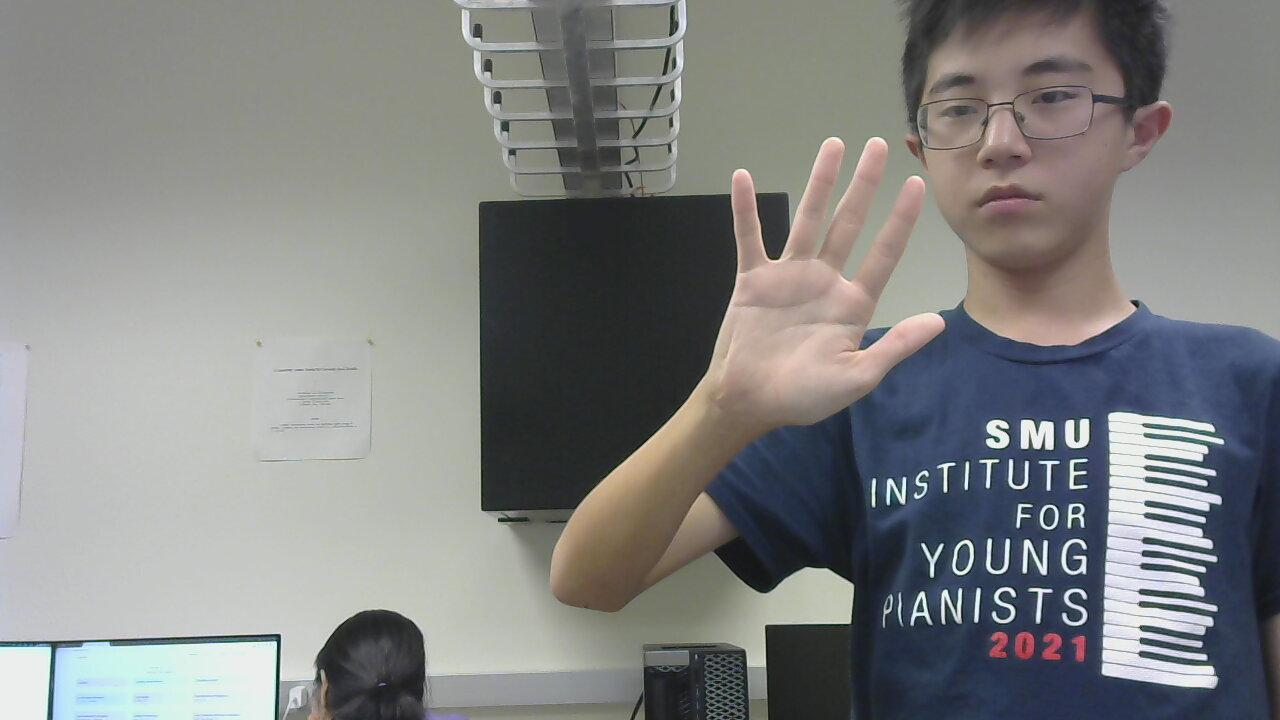hands: (711, 147, 954, 431)
